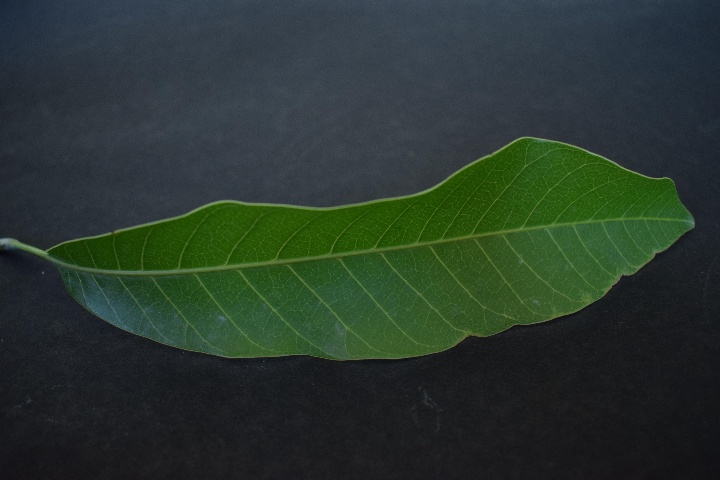healthy: (55, 141, 676, 358)
